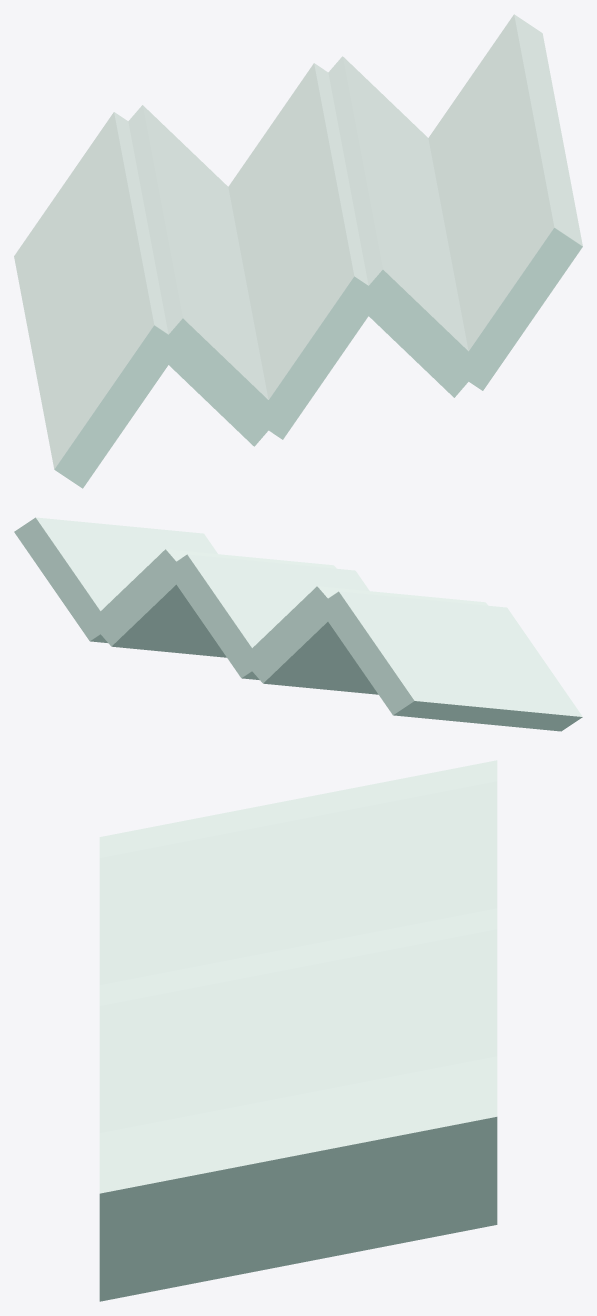
Rendered from Spring_Coil.gltf.
The picture shows the model from 3 angles, top to bottom: view 1: azimuth 30°, elevation 25°; view 2: azimuth 150°, elevation 25°; view 3: azimuth 270°, elevation 25°; orthographic projection. The views are drawn at different scales.
Parts seen in each view (by area): view 1: Spring_Coil; view 2: Spring_Coil; view 3: Spring_Coil.
Part boxes in pixels (box(x1,y1,x2,y2)): Spring_Coil: box(14, 14, 582, 488); Spring_Coil: box(14, 517, 582, 731); Spring_Coil: box(99, 760, 497, 1301).
Bounding box in the file's own units: 0.8177 × 0.3043 × 0.3.
